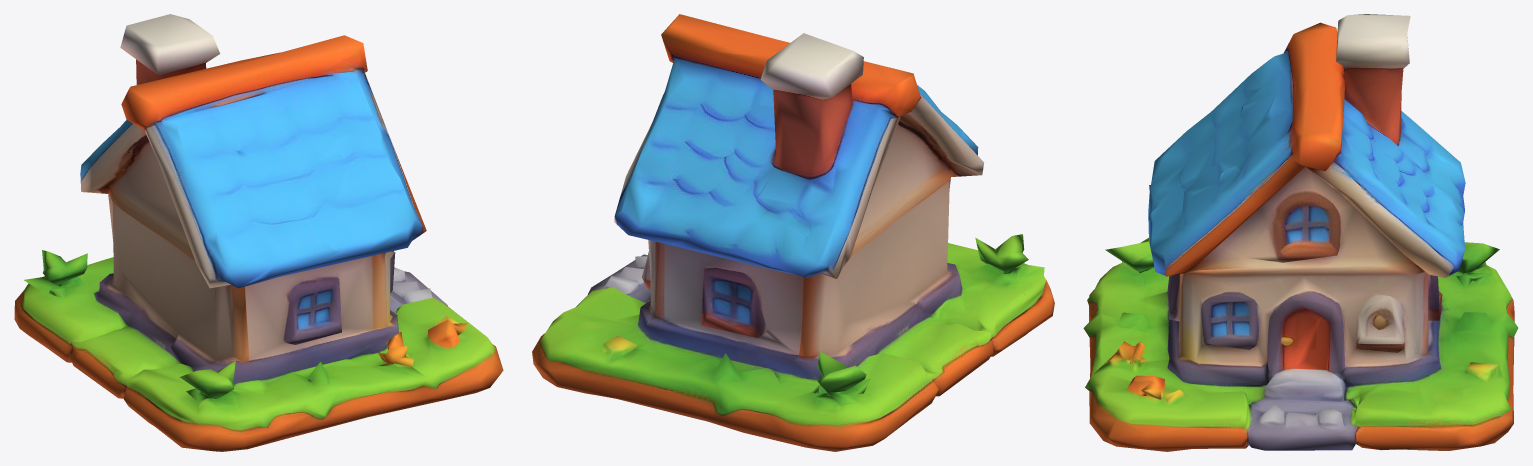
File: cottage.glb
The picture shows the model from 3 angles, left to right: view 1: azimuth 30°, elevation 25°; view 2: azimuth 150°, elevation 25°; view 3: azimuth 270°, elevation 25°; orthographic projection. The views are drawn at different scales.
Parts seen in each view (by area): view 1: tripo_node_b0e4c96e-6022-429a-8026-5904d7c56f55; view 2: tripo_node_b0e4c96e-6022-429a-8026-5904d7c56f55; view 3: tripo_node_b0e4c96e-6022-429a-8026-5904d7c56f55.
Boxes of the visible parts, x1,y1,x2,y2 form: tripo_node_b0e4c96e-6022-429a-8026-5904d7c56f55: (14, 14, 503, 451); tripo_node_b0e4c96e-6022-429a-8026-5904d7c56f55: (532, 14, 1054, 451); tripo_node_b0e4c96e-6022-429a-8026-5904d7c56f55: (1083, 14, 1518, 451).
Bounding box in the file's own units: 0.918 × 0.8134 × 1.
Materials: 1 (1 with a texture image).
